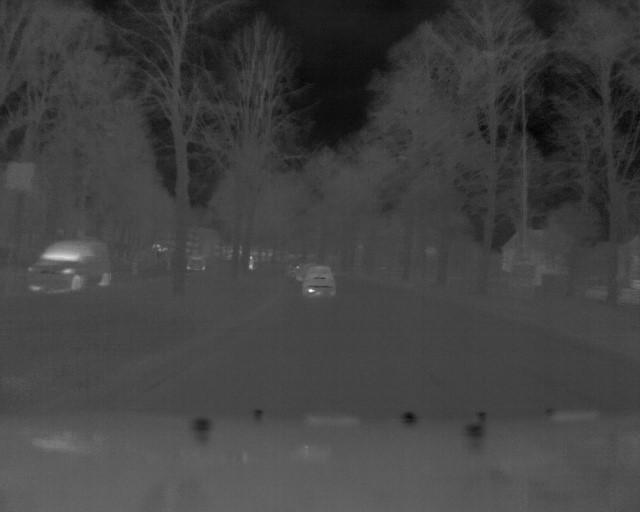car: (23, 238, 118, 296), (302, 263, 338, 303), (188, 253, 207, 274)
person: (248, 252, 255, 272)
